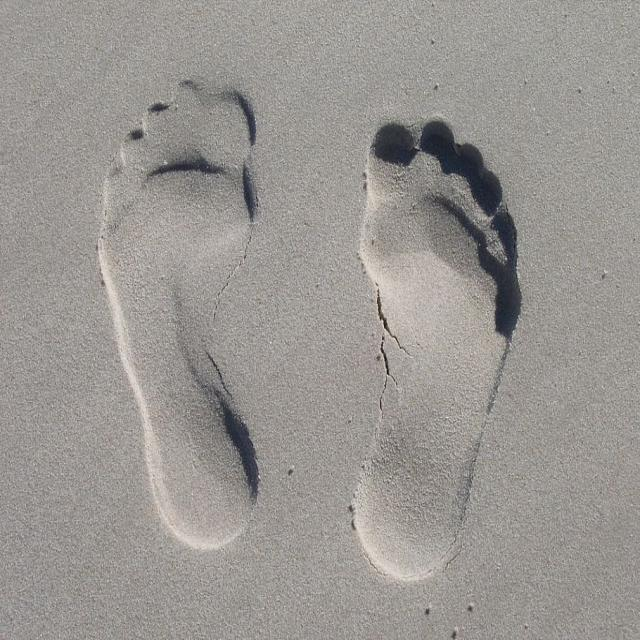human_footprint: (76, 43, 562, 614)
